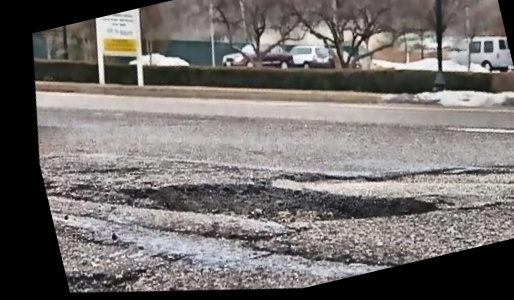pothole: (126, 117, 444, 287), (64, 249, 142, 300)
